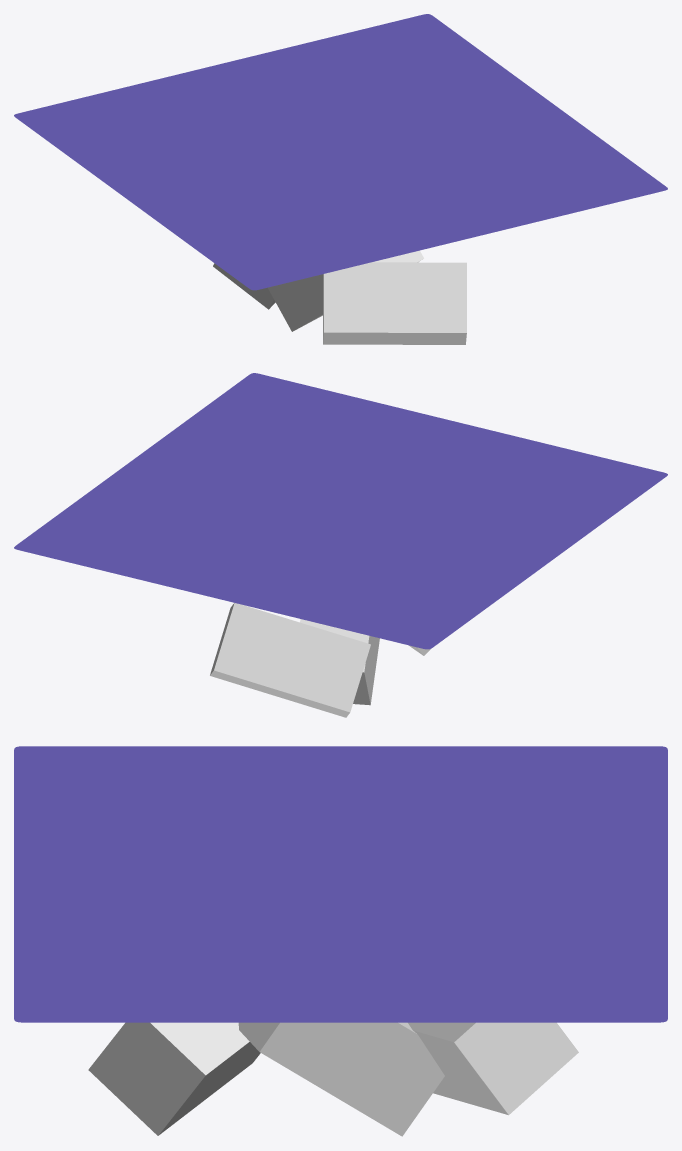
File: cloth.glb
3 renders of one model, top to bottom at view 1: azimuth 30°, elevation 25°; view 2: azimuth 150°, elevation 25°; view 3: azimuth 270°, elevation 25°, orthographic. The views are drawn at different scales.
Visible parts, largest first — view 1: Plane, Cube.001, Cube, Cube.002; view 2: Plane, Cube.002, Cube; view 3: Plane, Cube, Cube.001, Cube.002.
Part boxes in pixels (x1=…): Plane: x1=14, y1=14, x2=667, y2=290; Cube.001: x1=323, y1=262, x2=466, y2=344; Cube: x1=268, y1=250, x2=423, y2=331; Cube.002: x1=213, y1=263, x2=275, y2=309; Plane: x1=14, y1=373, x2=667, y2=649; Cube.002: x1=210, y1=603, x2=370, y2=717; Cube: x1=300, y1=619, x2=379, y2=705; Plane: x1=14, y1=746, x2=667, y2=1022; Cube: x1=238, y1=1022, x2=444, y2=1136; Cube.001: x1=88, y1=1022, x2=260, y2=1135; Cube.002: x1=408, y1=1022, x2=578, y2=1115.
Size of the model in its own units: 2.02 by 0.822 by 2.02.
